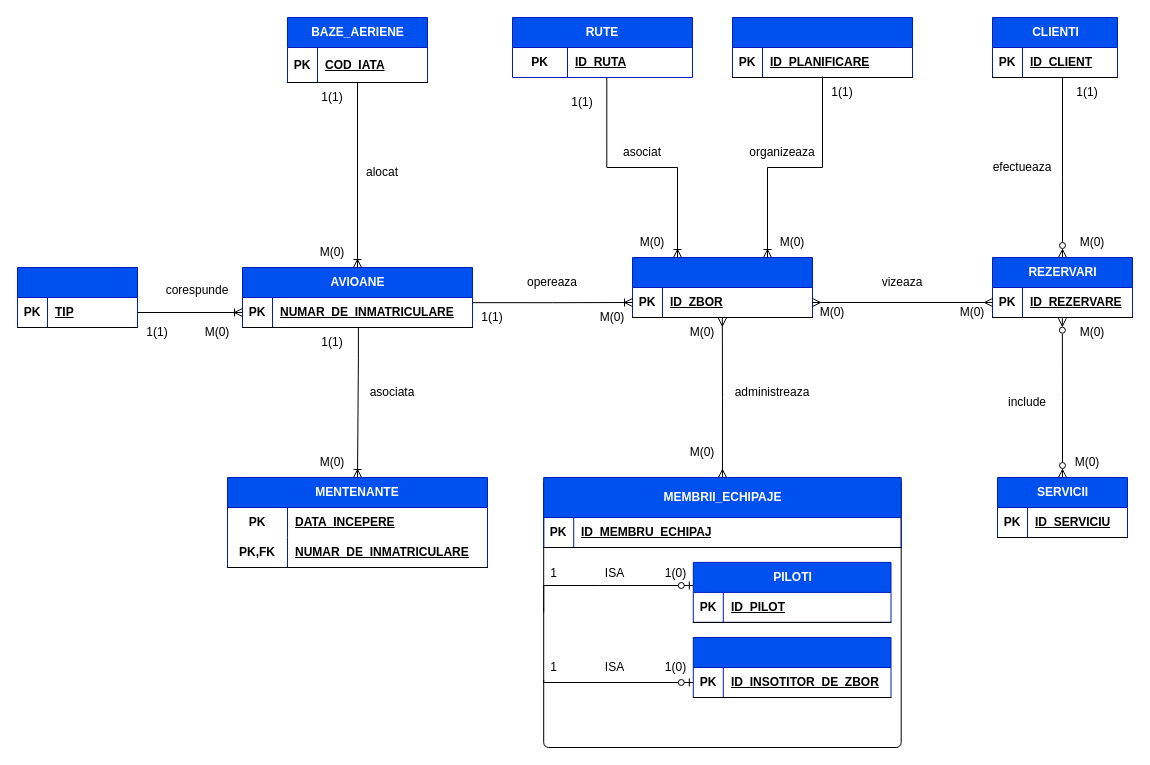
This 1150x765 diagram has some shape labels left out. Here are the shapes that lost their labels. From the top down, the box of each, then its label:
(732, 16, 912, 78): PLANIFICARI
(16, 266, 138, 328): MODELE_AVIOANE
(632, 256, 812, 318): ZBORURI
(692, 636, 891, 698): INSOTITORI_DE_ZBOR
